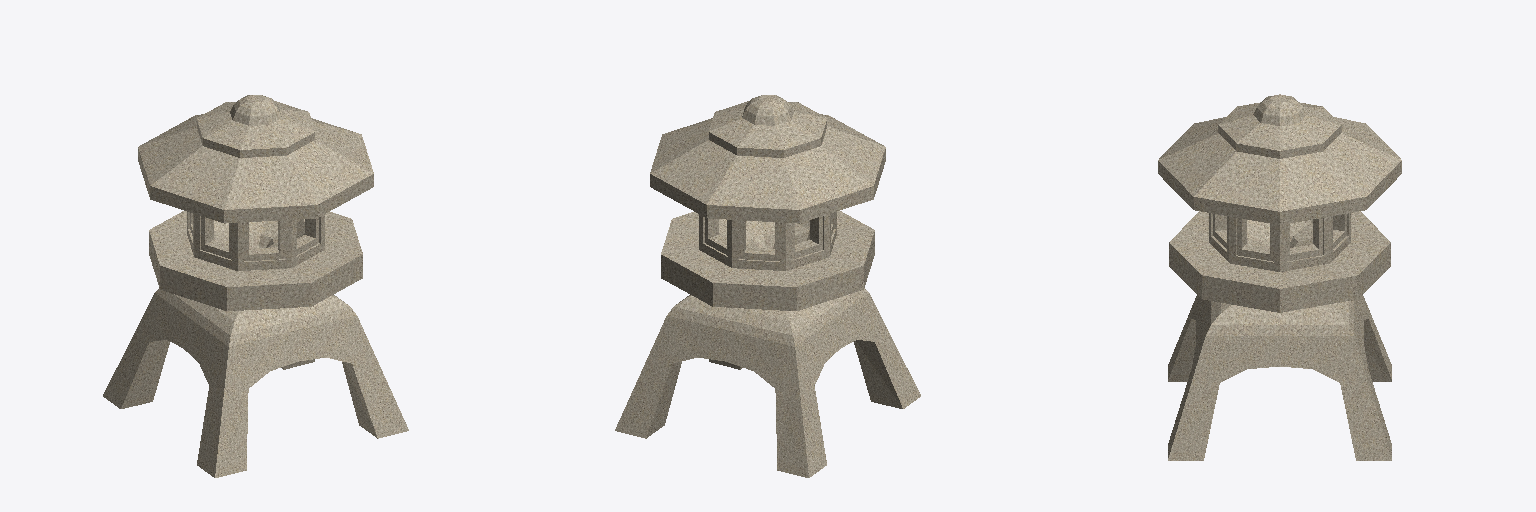
3 renders of one model, left to right at view 1: azimuth 30°, elevation 25°; view 2: azimuth 150°, elevation 25°; view 3: azimuth 270°, elevation 25°, orthographic.
Visible parts, largest first — view 1: StoneLantern_Circle.001; view 2: StoneLantern_Circle.001; view 3: StoneLantern_Circle.001.
Part boxes in pixels (bbox=[...]): StoneLantern_Circle.001: bbox=[103, 95, 408, 477]; StoneLantern_Circle.001: bbox=[615, 95, 920, 477]; StoneLantern_Circle.001: bbox=[1158, 94, 1401, 460].
Bounding box in the file's own units: 34.7 × 49.37 × 34.7.
Materials: 1 (1 with a texture image).